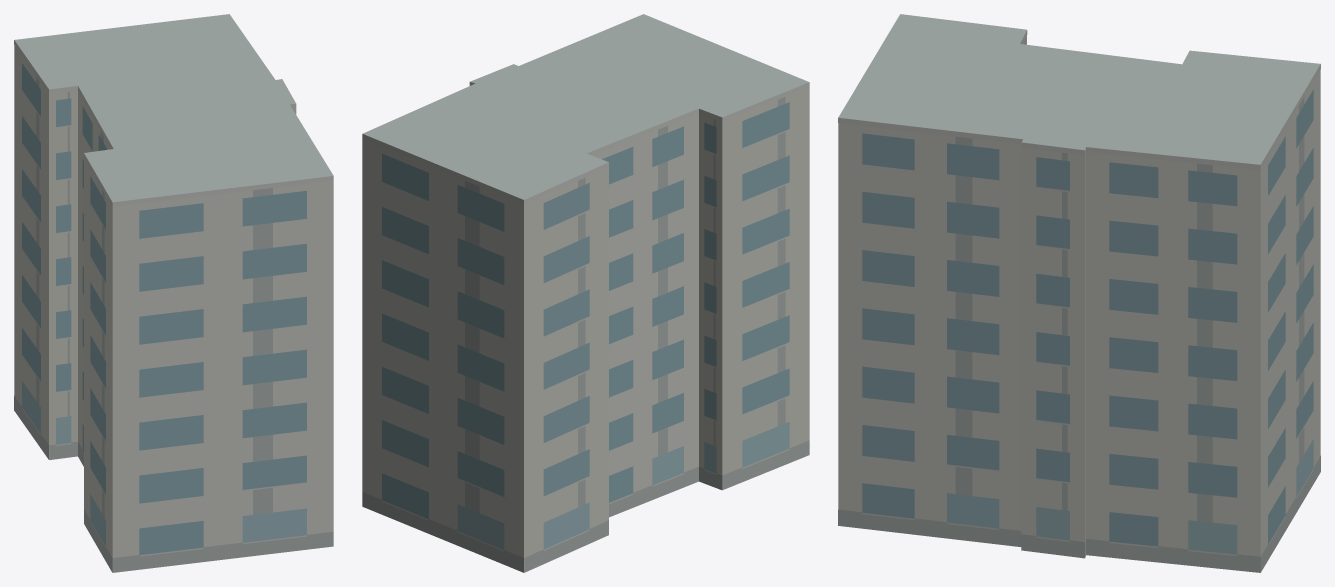
Rendered from survey-upis-32942531.glb.
3 views of the same model, side by side, from view 1: azimuth 30°, elevation 25°; view 2: azimuth 150°, elevation 25°; view 3: azimuth 270°, elevation 25° (orthographic). The views are drawn at different scales.
Parts seen in each view (by area): view 1: survey-upis-32942531.tmp; view 2: survey-upis-32942531.tmp; view 3: survey-upis-32942531.tmp.
Boxes of the visible parts, x1,y1,x2,y2 form: survey-upis-32942531.tmp: (14, 14, 333, 572); survey-upis-32942531.tmp: (362, 14, 809, 572); survey-upis-32942531.tmp: (838, 14, 1320, 572).
Size of the model in its own units: 15.07 by 19 by 20.38.
